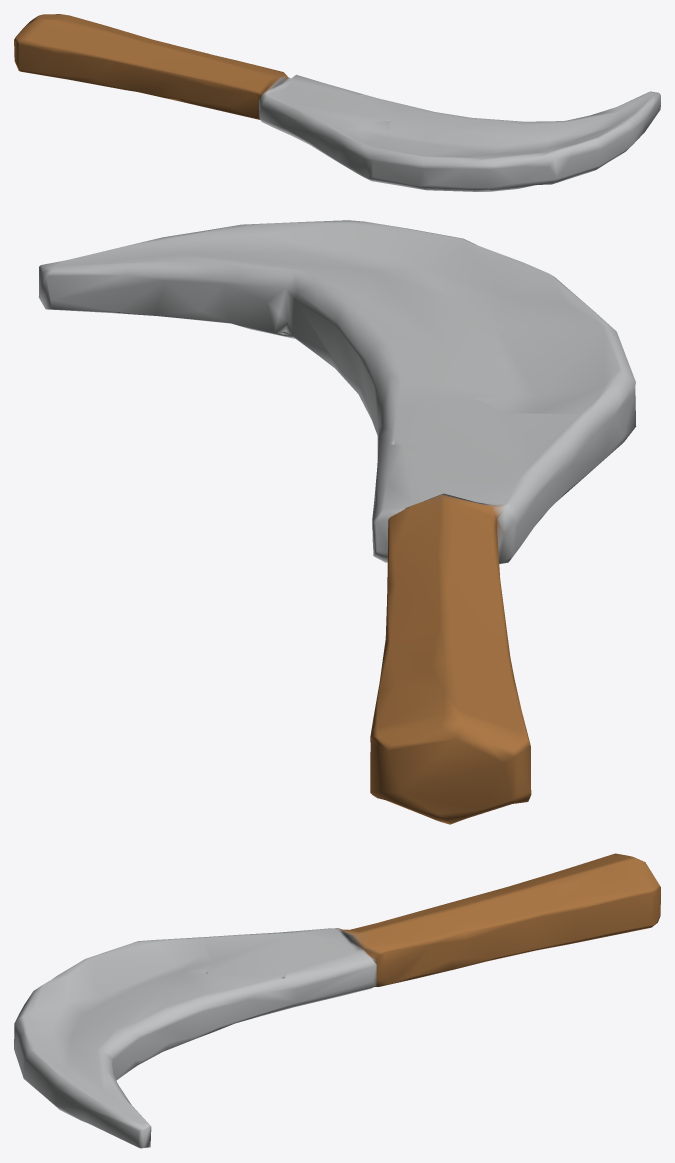
File: gen3d-sickle-lod0.glb
3 renders of one model, top to bottom at view 1: azimuth 30°, elevation 25°; view 2: azimuth 150°, elevation 25°; view 3: azimuth 270°, elevation 25°, orthographic. The views are drawn at different scales.
Parts seen in each view (by area): view 1: part_0; view 2: part_0; view 3: part_0.
Part boxes in pixels (<box>): part_0: <box>14,14,660,191</box>; part_0: <box>38,220,636,824</box>; part_0: <box>14,853,660,1148</box>.
Bounding box in the file's own units: 8.39 × 0.9923 × 8.88.
